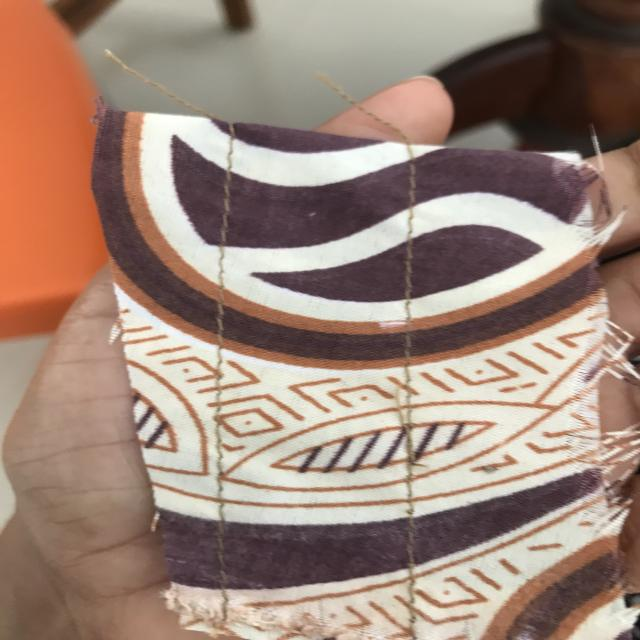good: (193, 329, 237, 433)
